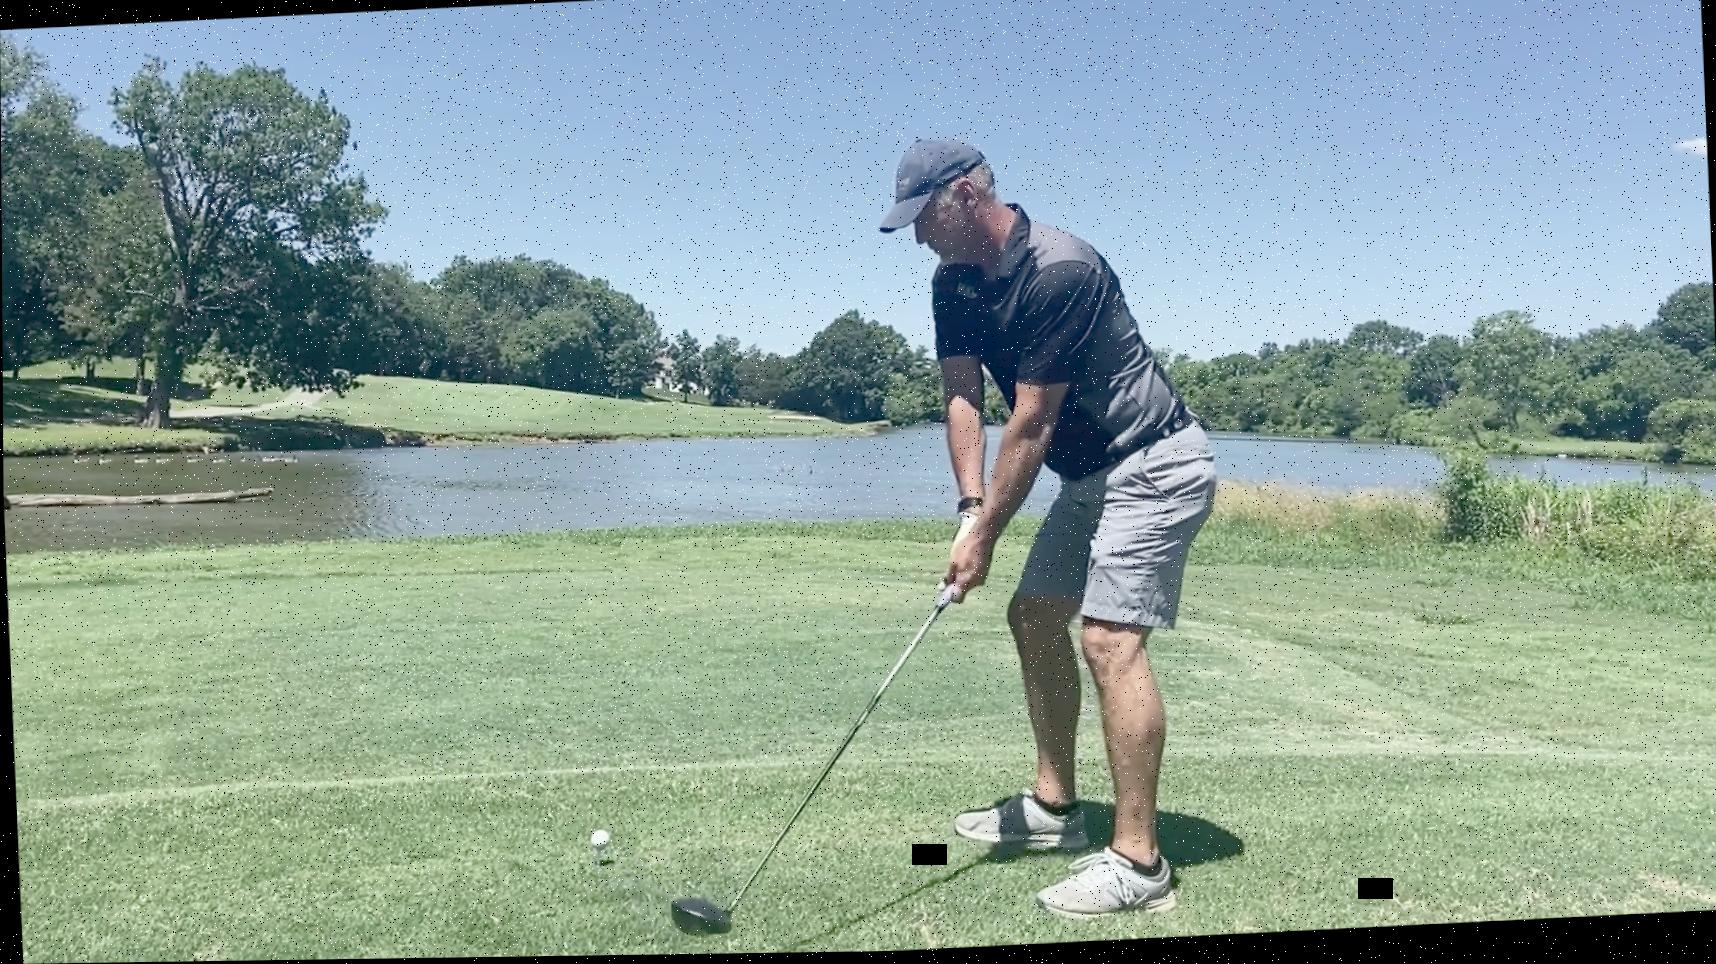ClubHead: (664, 894, 738, 940)
GolfBall: (586, 826, 613, 851)
